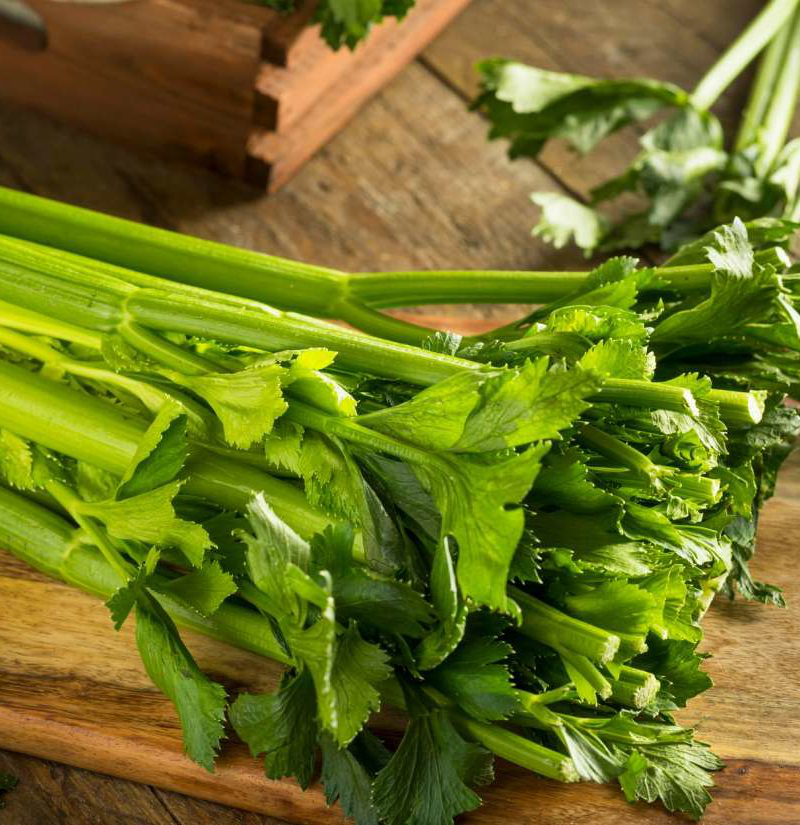Seledri: (2, 174, 766, 821)
